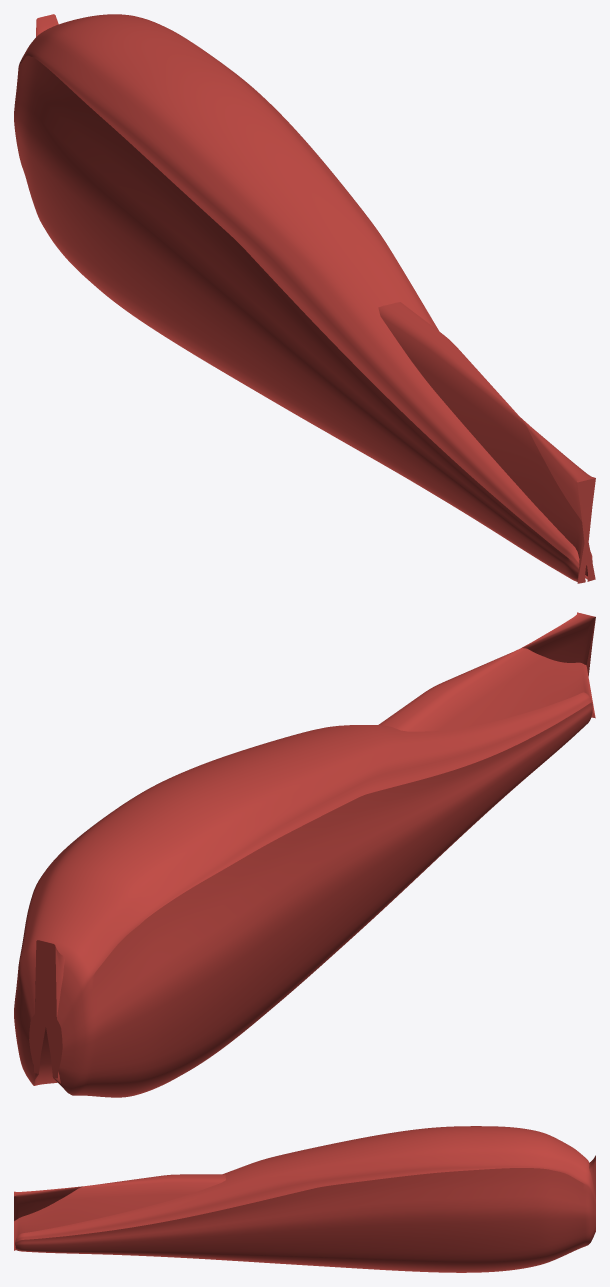
File: chopper_1.glb
3 views of the same model, one above another, from view 1: azimuth 30°, elevation 25°; view 2: azimuth 150°, elevation 25°; view 3: azimuth 270°, elevation 25° (orthographic). The views are drawn at different scales.
Visible parts, largest first — view 1: lod0; view 2: lod0; view 3: lod0.
Boxes of the visible parts, box(x1,y1,x2,y2) form: lod0: box(14, 14, 595, 583); lod0: box(14, 612, 595, 1097); lod0: box(14, 1126, 595, 1272).
Size of what is drawn, in the model's own units: 0.1817 by 0.2609 by 1.06.
